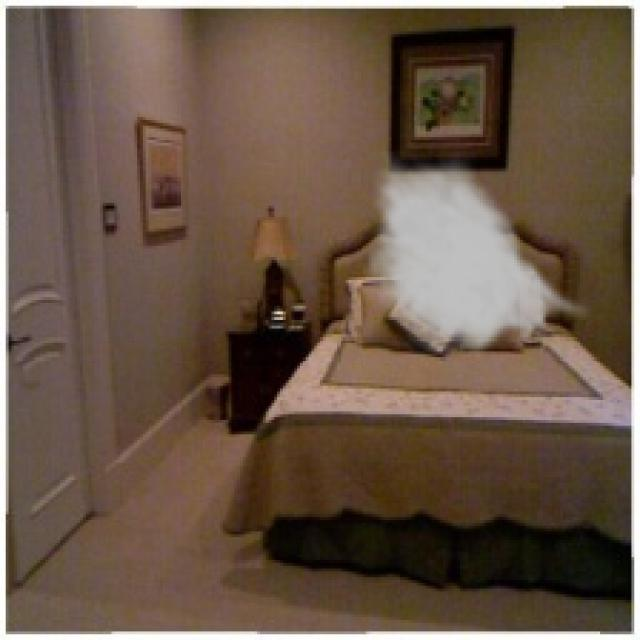smoke: (363, 149, 594, 360)
